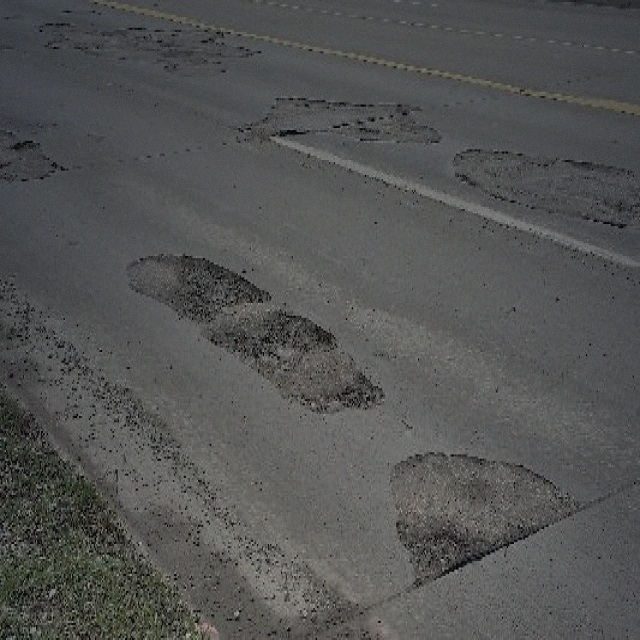pothole: (175, 250, 269, 312), (213, 312, 336, 358), (404, 527, 476, 580)
